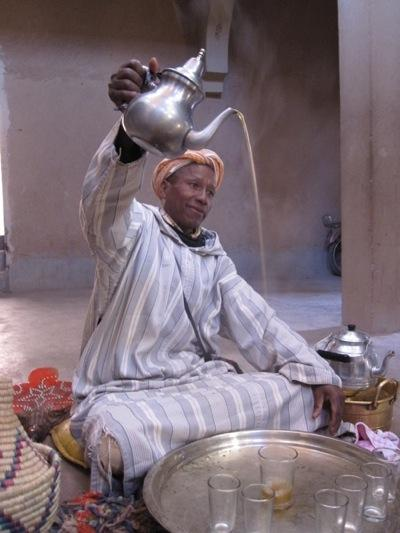person: (73, 57, 356, 502)
